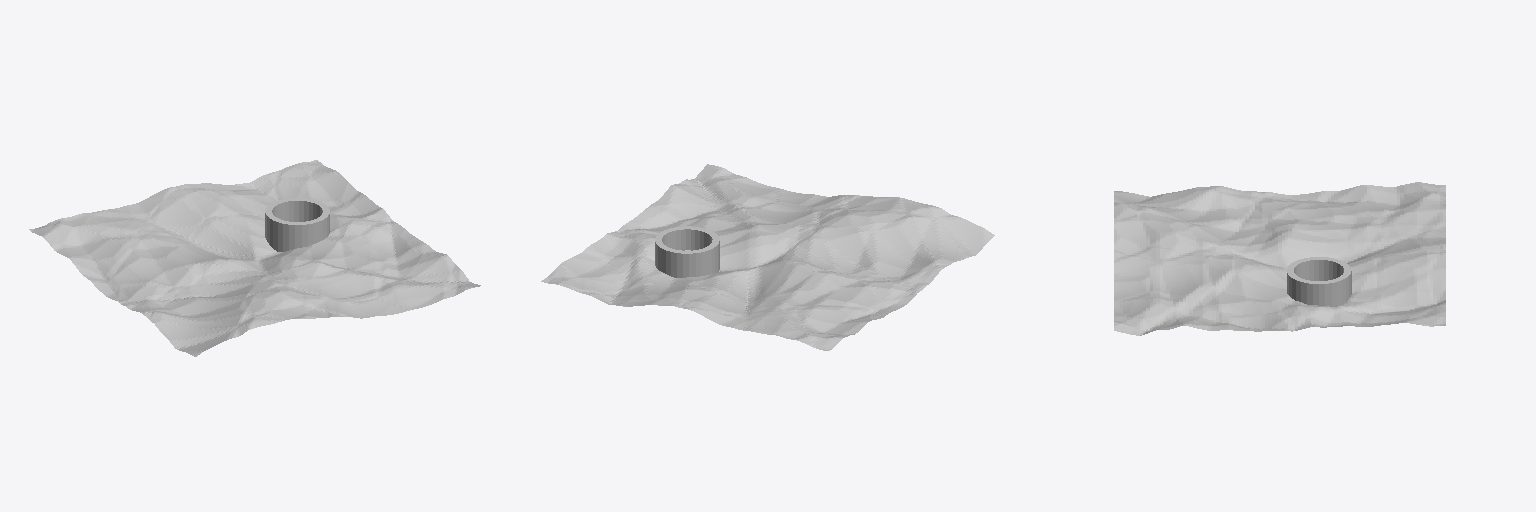
Rendered from terrain_image.obj.
The picture shows the model from 3 angles: view 1: azimuth 30°, elevation 25°; view 2: azimuth 150°, elevation 25°; view 3: azimuth 270°, elevation 25°; orthographic projection.
Parts seen in each view (by area): view 1: Plane, Circle; view 2: Plane, Circle; view 3: Plane, Circle.
Part boxes in pixels (left/top/right/bottom): Plane: left=29, top=160, right=480, bottom=356; Circle: left=265, top=198, right=329, bottom=251; Plane: left=541, top=164, right=994, bottom=350; Circle: left=655, top=226, right=719, bottom=277; Plane: left=1114, top=182, right=1445, bottom=335; Circle: left=1287, top=257, right=1351, bottom=306.
Size of the model in its own units: 150 by 15.24 by 150.